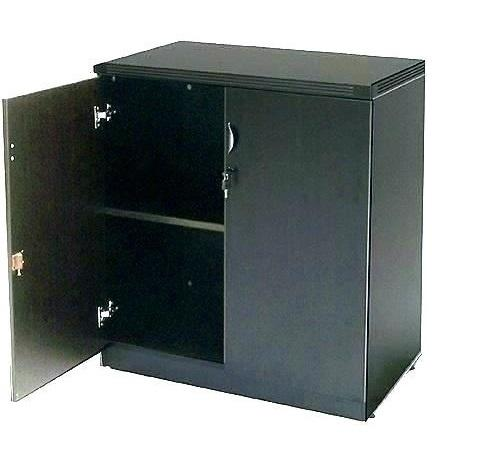cabinet_door: (231, 92, 371, 408), (10, 88, 110, 371)
handle: (225, 120, 237, 156)
